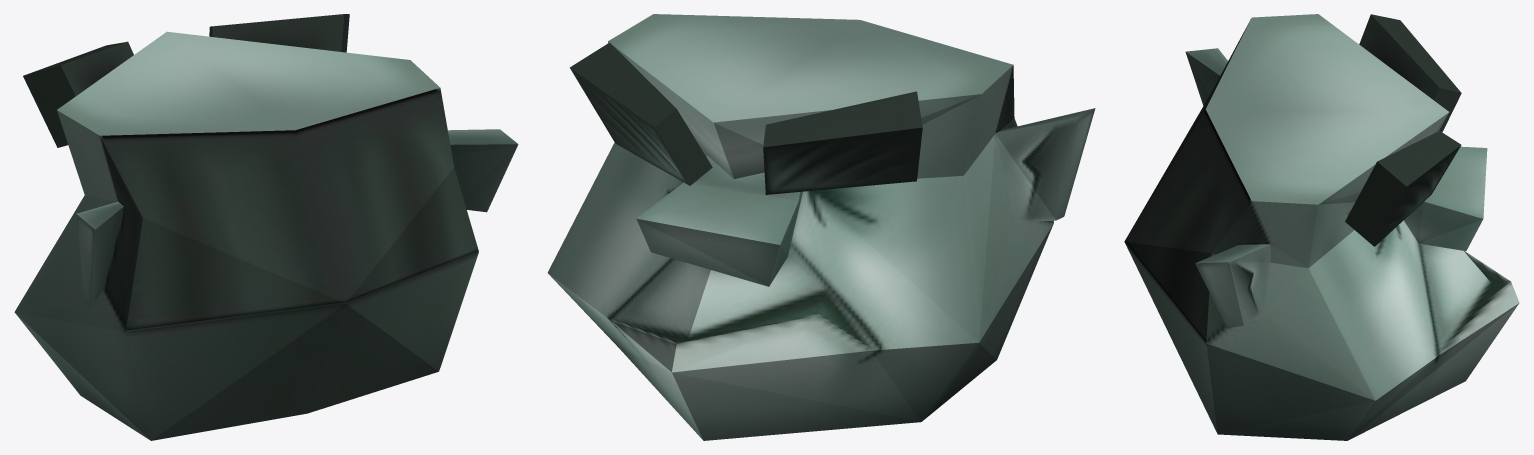
Rendered from ttr-auditor_head.glb.
3 renders of one model, left to right at view 1: azimuth 30°, elevation 25°; view 2: azimuth 150°, elevation 25°; view 3: azimuth 270°, elevation 25°, orthographic. The views are drawn at different scales.
Visible parts, largest first — view 1: ttr_m_ene_cashbotAuditor; view 2: ttr_m_ene_cashbotAuditor; view 3: ttr_m_ene_cashbotAuditor.
Part boxes in pixels (x1=…): ttr_m_ene_cashbotAuditor: x1=14, y1=14, x2=518, y2=440; ttr_m_ene_cashbotAuditor: x1=547, y1=14, x2=1095, y2=440; ttr_m_ene_cashbotAuditor: x1=1124, y1=14, x2=1519, y2=440.
Size of the model in its own units: 1.73 by 1.27 by 1.51.
Materials: 1 (1 with a texture image).
